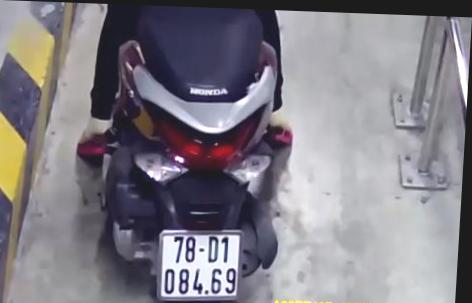License_Plate: (150, 225, 249, 303)
